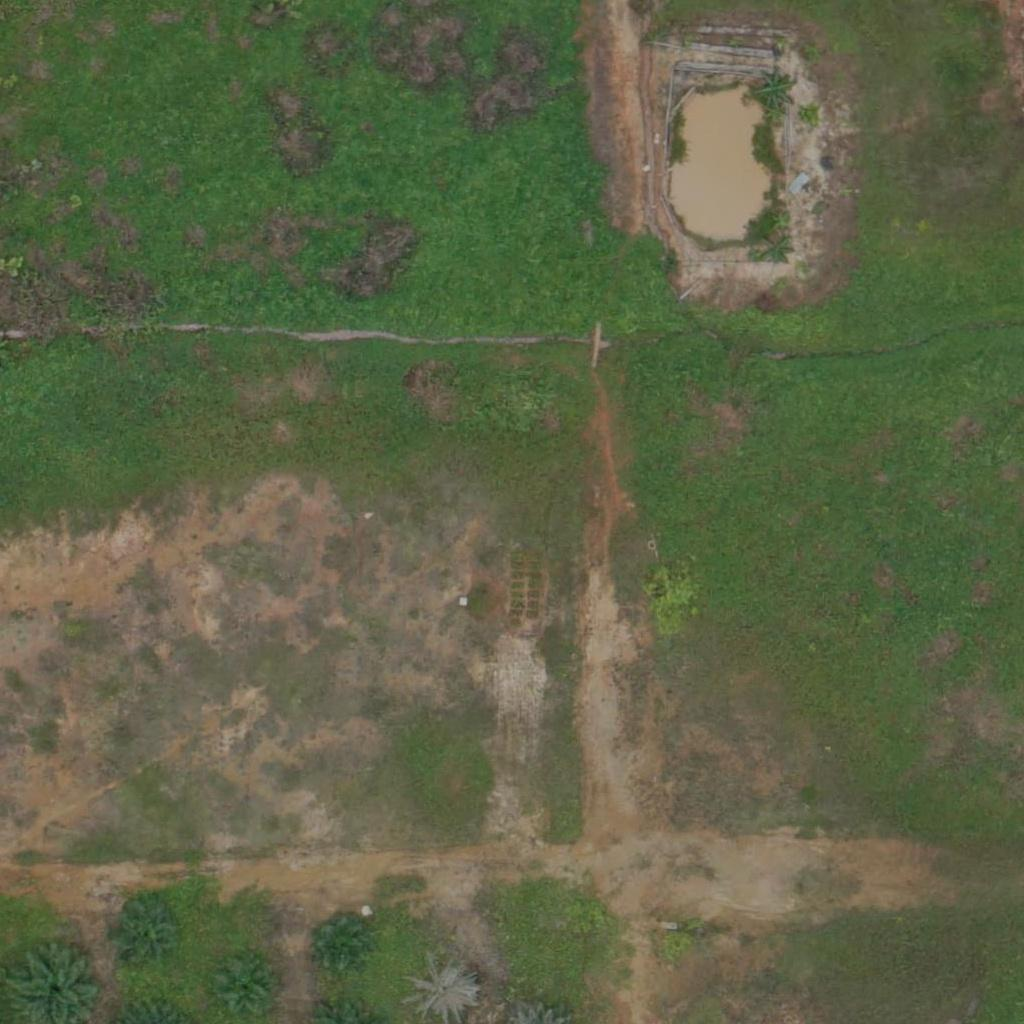Kelapa_Sawit: (116, 904, 179, 967), (213, 951, 276, 1014), (309, 912, 371, 974)
